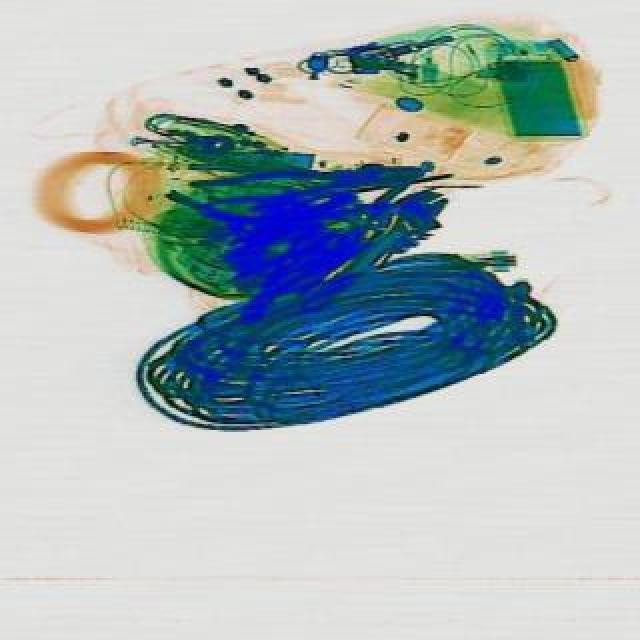scissors: (288, 176, 464, 332)
wrench: (192, 152, 430, 216)
